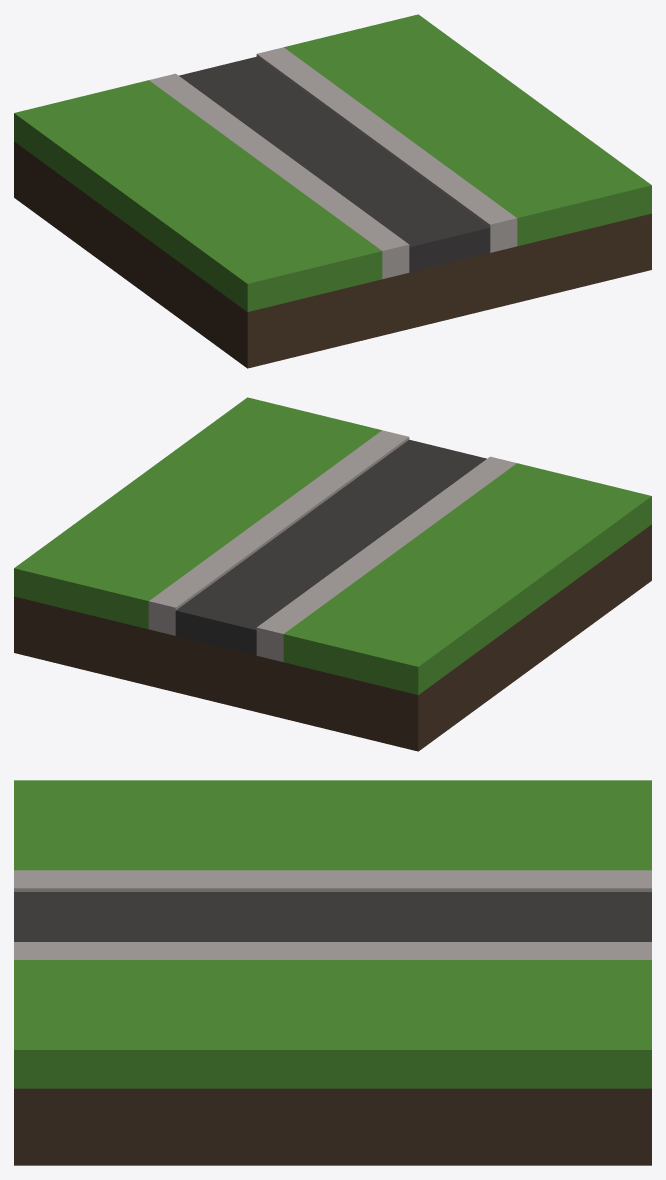
Rendered from tiles_tile-road-straight.fbx.
3 views of the same model, one above another, from view 1: azimuth 30°, elevation 25°; view 2: azimuth 150°, elevation 25°; view 3: azimuth 270°, elevation 25° (orthographic). The views are drawn at different scales.
Visible parts, largest first — view 1: tiles_tile_road_straight; view 2: tiles_tile_road_straight; view 3: tiles_tile_road_straight.
Boxes of the visible parts, x1,y1,x2,y2 form: tiles_tile_road_straight: (14, 14, 651, 368); tiles_tile_road_straight: (14, 397, 651, 751); tiles_tile_road_straight: (14, 780, 651, 1165).
Bounding box in the file's own units: 200 × 40 × 200.
